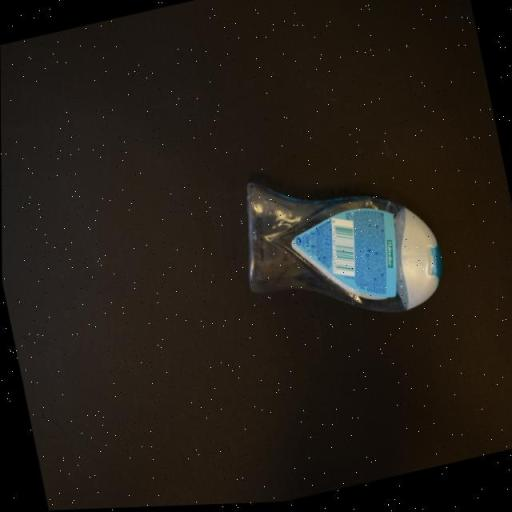plastic: (230, 143, 451, 350)
